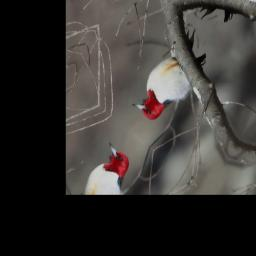Woodpecker: (129, 16, 220, 135)
